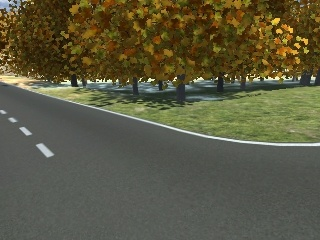Line slipt: (8, 115, 56, 159)
